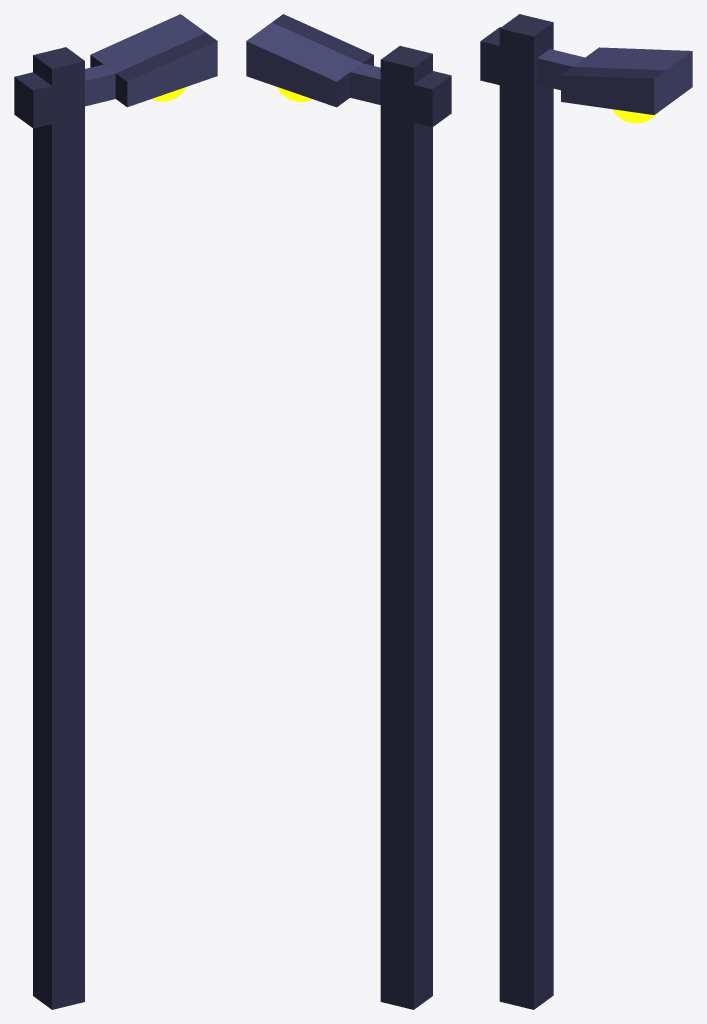
The picture shows the model from 3 angles, left to right: view 1: azimuth 30°, elevation 25°; view 2: azimuth 150°, elevation 25°; view 3: azimuth 330°, elevation 25°; orthographic projection. The views are drawn at different scales.
Parts seen in each view (by area): view 1: 立方体.004; view 2: 立方体.004; view 3: 立方体.004.
Part boxes in pixels (x1=…): 立方体.004: x1=14, y1=14, x2=217, y2=1009; 立方体.004: x1=246, y1=14, x2=451, y2=1009; 立方体.004: x1=480, y1=14, x2=692, y2=1009.
Bounding box in the file's own units: 2.67 × 13.63 × 0.9708.
2 materials, 1 textured.
